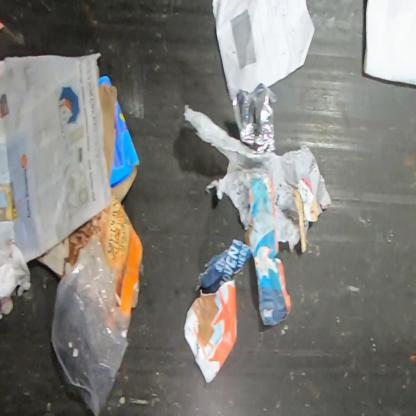cardboard: (35, 187, 144, 315), (97, 74, 141, 202)
metal: (232, 82, 278, 152)
rigid_plastic: (0, 19, 5, 32)
soft_plastic: (183, 104, 335, 253), (50, 235, 132, 415)
